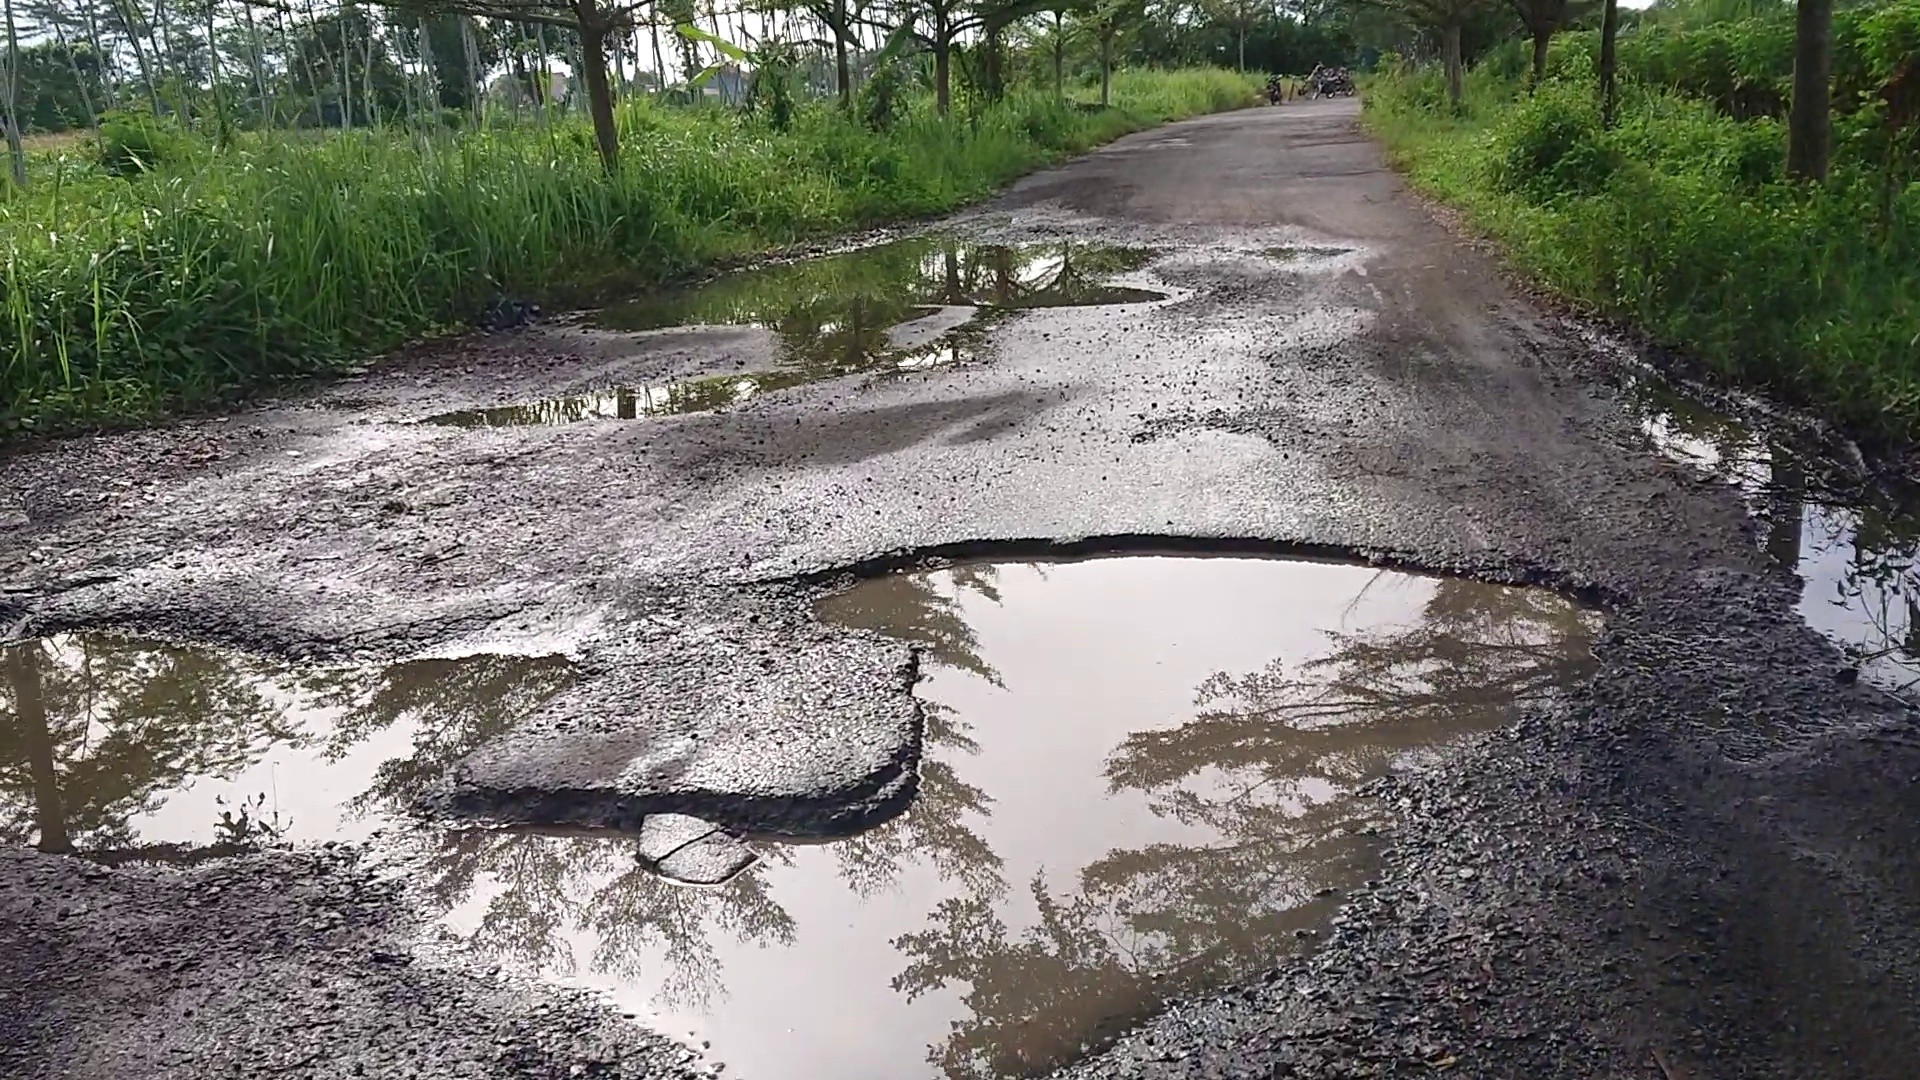Berlubang: (426, 574, 1648, 1055), (506, 245, 1204, 415), (1, 632, 413, 862)
